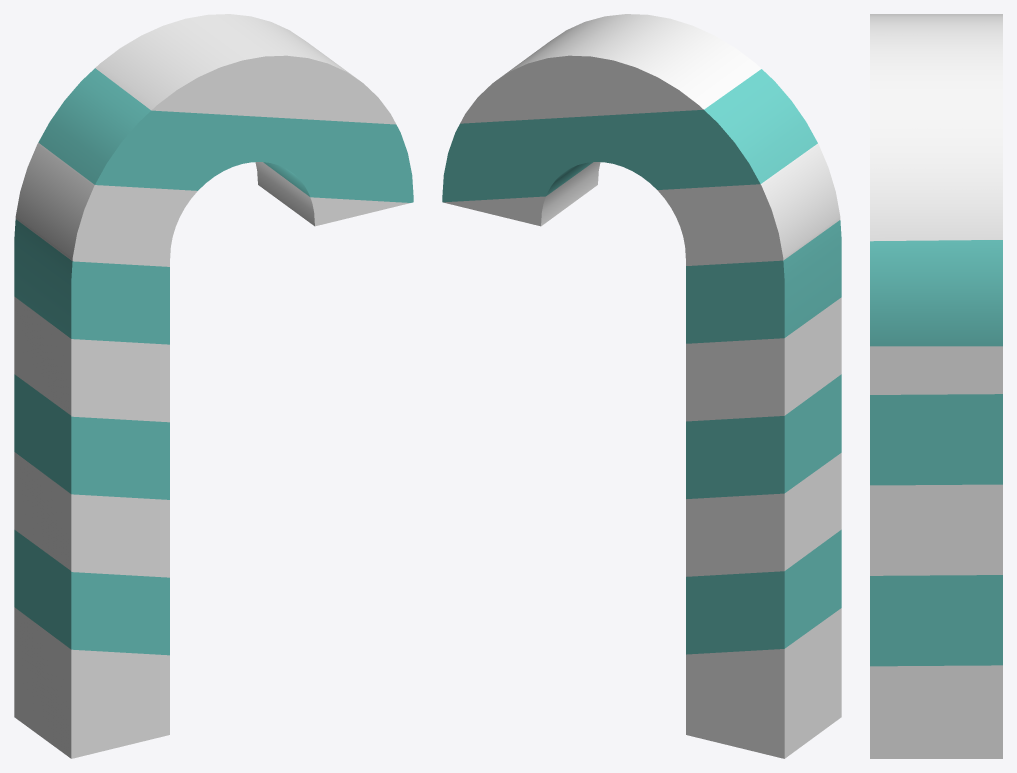
The model's file is candyCaneMint.glb.
3 renders of one model, left to right at view 1: azimuth 30°, elevation 25°; view 2: azimuth 150°, elevation 25°; view 3: azimuth 270°, elevation 25°, orthographic. The views are drawn at different scales.
Parts seen in each view (by area): view 1: candyCaneMint(Clone); view 2: candyCaneMint(Clone); view 3: candyCaneMint(Clone).
Boxes of the visible parts, x1,y1,x2,y2 form: candyCaneMint(Clone): (14, 14, 413, 758); candyCaneMint(Clone): (442, 14, 841, 758); candyCaneMint(Clone): (870, 14, 1002, 758).
Size of the model in its own units: 0.1383 by 0.2537 by 0.0399.
